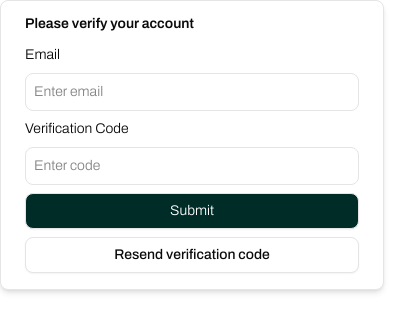
Scenario: confirm email component › should correctly render User does not exist on error span element
Step 1. Type "test@example.com" into the field labelled "Email" → (192, 92), box [25, 73, 359, 111]
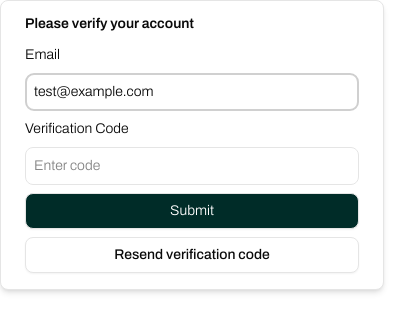
Step 2. Type "123456" into the number field labelled "Verification Code" → (192, 166), box [25, 147, 359, 185]
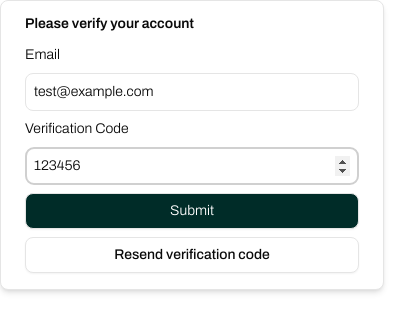
Step 3. Click the button "Submit" → click(192, 211), box [25, 193, 359, 229]
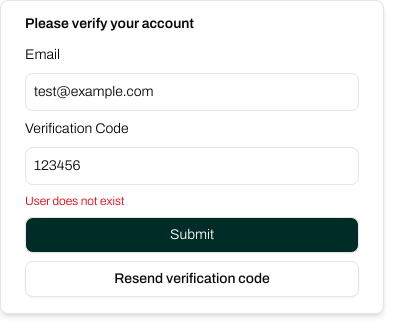
Expected: the text with test id "^error$" reads "User does not exist", [25, 194, 124, 208]
